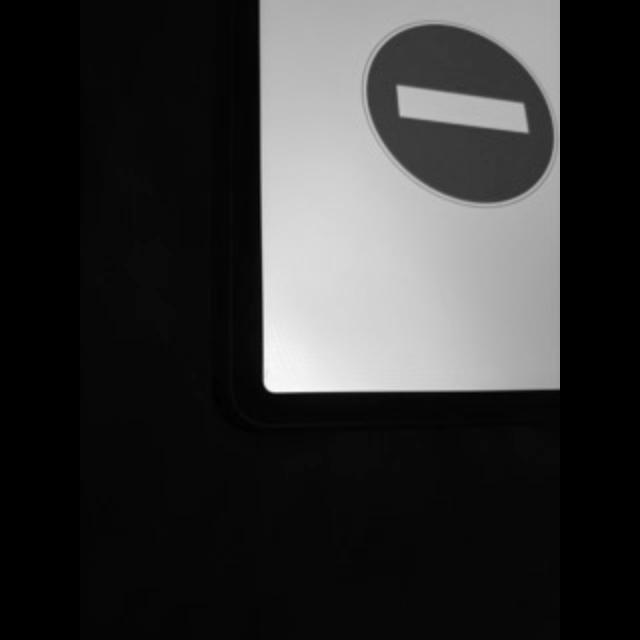NO ENTRY: (361, 16, 557, 206)
